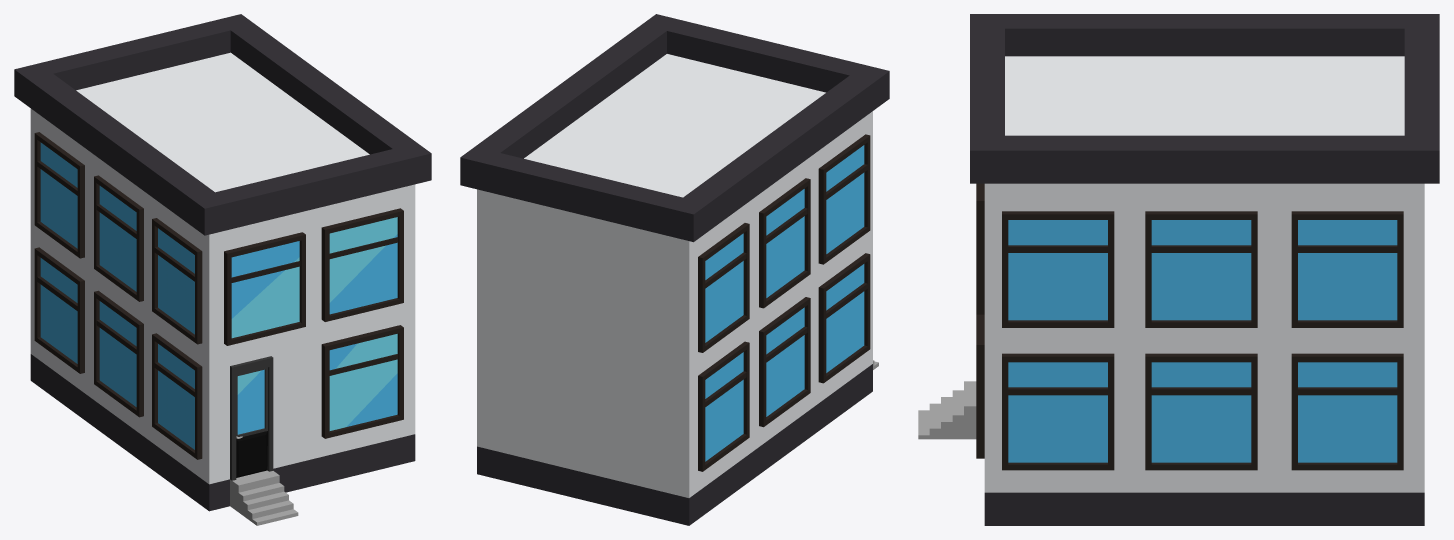
File: Env_CompanyBuilding_02.fbx
3 renders of one model, left to right at view 1: azimuth 30°, elevation 25°; view 2: azimuth 150°, elevation 25°; view 3: azimuth 270°, elevation 25°, orthographic. The views are drawn at different scales.
Parts seen in each view (by area): view 1: Env_CompanyBuilding_02; view 2: Env_CompanyBuilding_02; view 3: Env_CompanyBuilding_02.
Part boxes in pixels (left/top/right/bottom): Env_CompanyBuilding_02: left=14, top=14, right=431, bottom=525; Env_CompanyBuilding_02: left=460, top=14, right=889, bottom=525; Env_CompanyBuilding_02: left=918, top=14, right=1439, bottom=525.
Bounding box in the file's own units: 575 × 749 × 927.
1 material, 1 textured.
